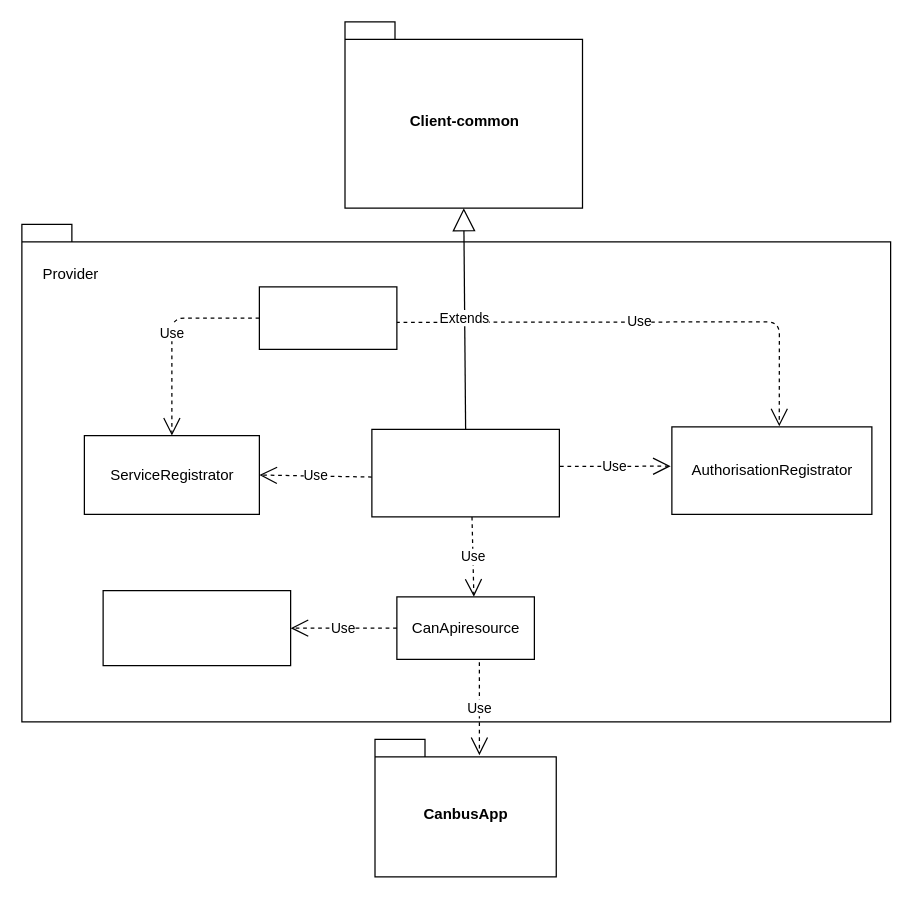
Image size: 913x899. Some labels were removed from this diagram. Here are the shapes that lost their labels. From the top down, the centre of each, then its label:
At [327,317]: "JsonFileParser".
At [465,472]: "CanBusProviderMain".
At [196,627]: "RequestVerification".
